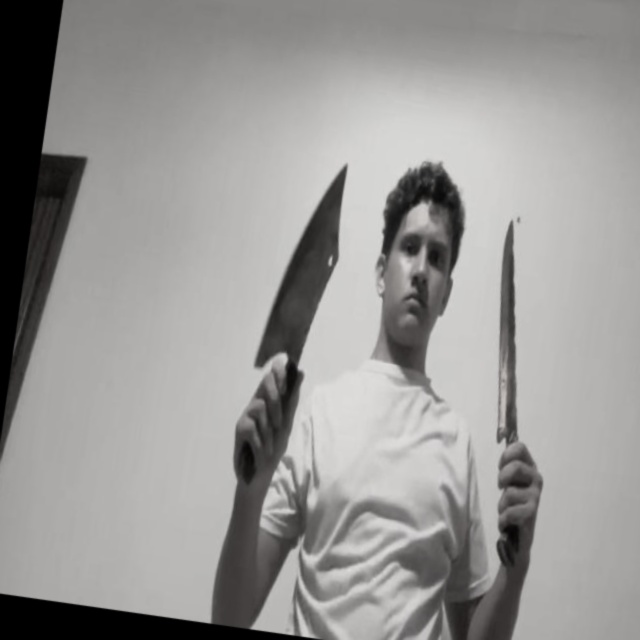Sharp-Object: (254, 156, 355, 378), (477, 218, 547, 445)
